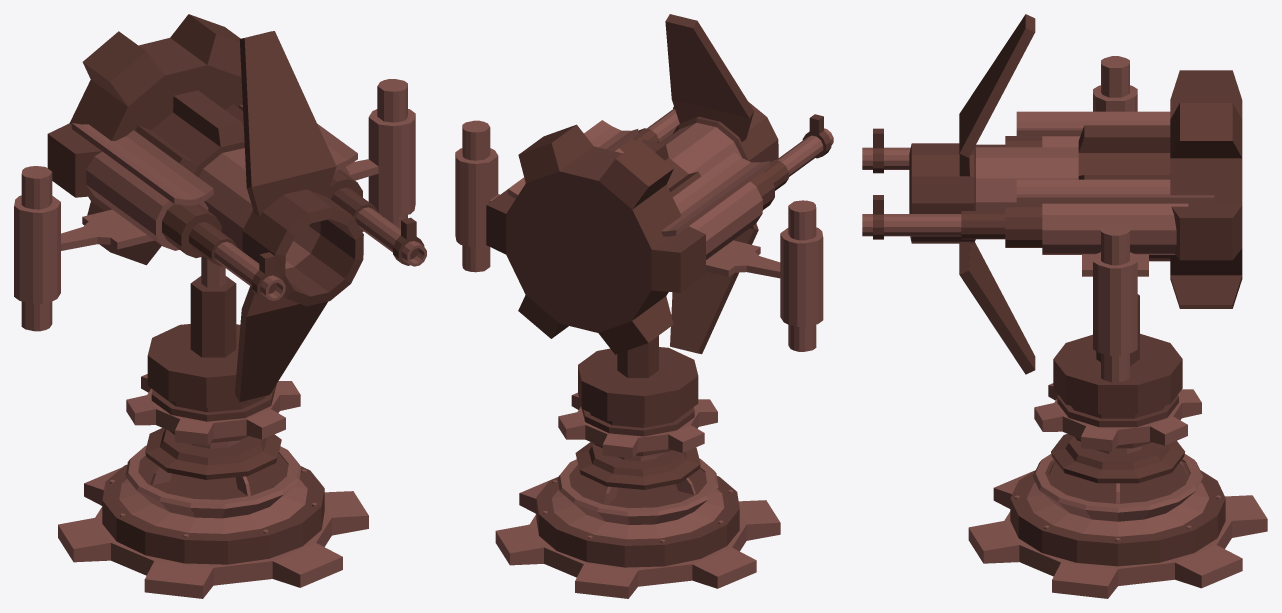
The model's file is cannon-3.glb.
The picture shows the model from 3 angles, left to right: view 1: azimuth 30°, elevation 25°; view 2: azimuth 150°, elevation 25°; view 3: azimuth 270°, elevation 25°; orthographic projection. The views are drawn at different scales.
Parts seen in each view (by area): view 1: Cannon_3_Gun, Cannon_3_Base, Cannon_3_Mid; view 2: Cannon_3_Gun, Cannon_3_Base, Cannon_3_Mid; view 3: Cannon_3_Gun, Cannon_3_Base, Cannon_3_Mid.
Boxes of the visible parts, x1,y1,x2,y2 form: Cannon_3_Gun: [14, 14, 426, 401]; Cannon_3_Base: [58, 445, 368, 598]; Cannon_3_Mid: [126, 256, 300, 479]; Cannon_3_Gun: [455, 14, 833, 354]; Cannon_3_Base: [495, 458, 780, 598]; Cannon_3_Mid: [558, 335, 717, 489]; Cannon_3_Gun: [862, 14, 1242, 382]; Cannon_3_Base: [968, 454, 1267, 598]; Cannon_3_Mid: [1034, 294, 1201, 483].
Size of the model in its own units: 2.02 by 2.62 by 1.87.
